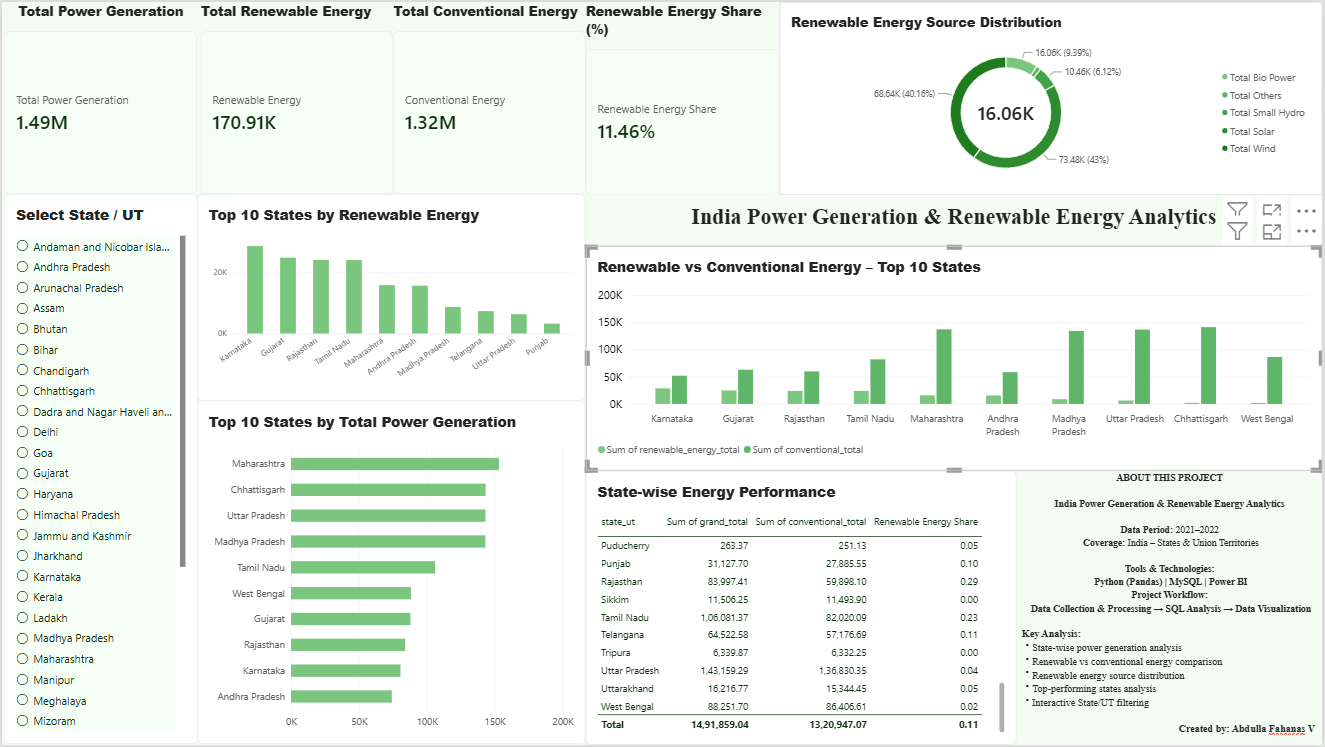

Layout of this report page (visuals, bound fields, positions):
{"tool":"powerbi","page":{"name":"Page 1","canvas":[1920,1080],"ordinal":0},"visuals":[{"type":"cardVisual","title":"Total Power Generation","fields":{"Data":["Sum(india_power_analytics power_generation.grand_total)"]},"box":[3.5,0,280,280],"z":0},{"type":"cardVisual","title":"Total Conventional Energy","fields":{"Data":["Sum(india_power_analytics power_generation.conventional_total)"]},"box":[569.2,0,280,280],"z":2000},{"type":"cardVisual","title":"Total Renewable Energy","fields":{"Data":["Sum(india_power_analytics power_generation.renewable_energy_total)"]},"box":[289.2,0,280,280],"z":2001},{"type":"cardVisual","title":"Renewable Energy Share (%)","fields":{"Data":["india_power_analytics power_generation.Renewable Energy Share"]},"box":[849.2,0,280,280],"z":2002},{"type":"clusteredBarChart","title":"Top 10 States by Total Power Generation","fields":{"Category":["india_power_analytics power_generation.state_ut"],"Y":["Sum(india_power_analytics power_generation.grand_total)"]},"box":[284.3,580.8,565.1,498.8],"z":2003},{"type":"clusteredColumnChart","title":"Renewable vs Conventional Energy – Top 10 States","fields":{"Category":["india_power_analytics power_generation.state_ut"],"Y":["Sum(india_power_analytics power_generation.renewable_energy_total)","Sum(india_power_analytics power_generation.conventional_total)"]},"box":[849.4,354.1,1070.9,327.9],"z":2004},{"type":"donutChart","title":"Renewable Energy Source Distribution","fields":{"Y":["india_power_analytics power_generation.Total Bio Power","india_power_analytics power_generation.Total Others","india_power_analytics power_generation.Total Small Hydro","india_power_analytics power_generation.Total Solar","india_power_analytics power_generation.Total Wind"]},"box":[1130.2,0,790.1,280.8],"z":2005},{"type":"clusteredColumnChart","title":"Top 10 States by Renewable Energy","fields":{"Category":["india_power_analytics power_generation.state_ut"],"Y":["Sum(india_power_analytics power_generation.renewable_energy_total)"]},"box":[284.3,280.8,565.1,300],"z":2006},{"type":"tableEx","title":"State-wise Energy Performance","fields":{"Values":["india_power_analytics power_generation.state_ut","Sum(india_power_analytics power_generation.grand_total)","Sum(india_power_analytics power_generation.conventional_total)","india_power_analytics power_generation.Renewable Energy Share"]},"box":[849.2,681.7,626.7,398.3],"z":2007},{"type":"listSlicer","title":"Select State / UT","fields":{"Values":["india_power_analytics power_generation.state_ut"]},"box":[3.5,280.8,280.8,798.8],"z":2008},{"type":"textbox","box":[849.4,280.8,1070.9,73.3],"z":2009},{"type":"textbox","box":[1475.8,681.7,444.2,398.3],"z":2010}]}

Visuals, with their boxes in screenshot pixels (x1, y1, x2, y2), scaled from the page's 1920x1080 canvas onto the 1325x747 screenshot:
"Total Power Generation" cardVisual: locate(2, 0, 196, 194)
"Total Conventional Energy" cardVisual: locate(393, 0, 586, 194)
"Total Renewable Energy" cardVisual: locate(200, 0, 393, 194)
"Renewable Energy Share (%)" cardVisual: locate(586, 0, 779, 194)
"Top 10 States by Total Power Generation" clusteredBarChart: locate(196, 402, 586, 746)
"Renewable vs Conventional Energy – Top 10 States" clusteredColumnChart: locate(586, 245, 1324, 472)
"Renewable Energy Source Distribution" donutChart: locate(780, 0, 1324, 194)
"Top 10 States by Renewable Energy" clusteredColumnChart: locate(196, 194, 586, 402)
"State-wise Energy Performance" tableEx: locate(586, 472, 1019, 746)
"Select State / UT" listSlicer: locate(2, 194, 196, 746)
textbox: locate(586, 194, 1324, 245)
textbox: locate(1018, 472, 1324, 746)
